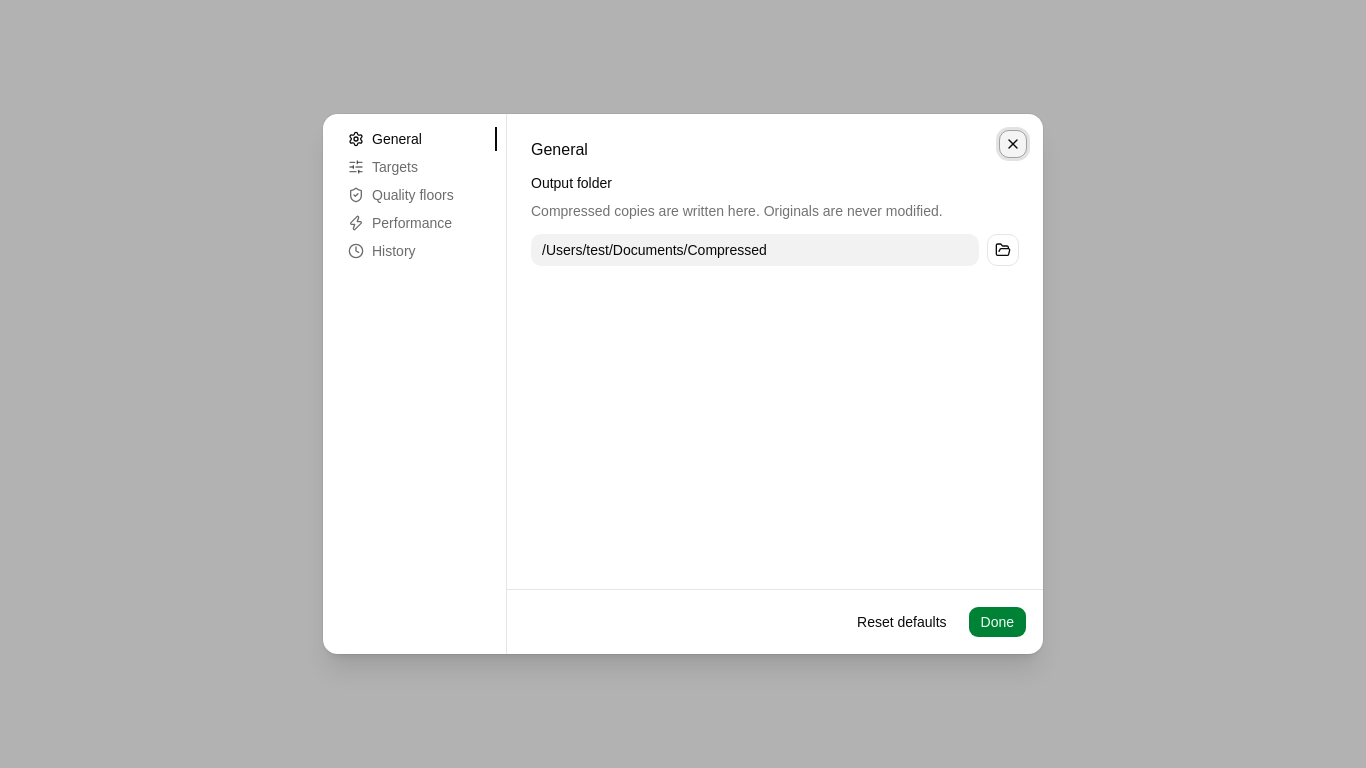
Scenario: SettingsDialog › lists the four target categories with controls and no badges
Expected: the tab "General" is shown, [335, 126, 494, 152]
Click the tab "Targets" at (414, 167), box [335, 154, 494, 180]
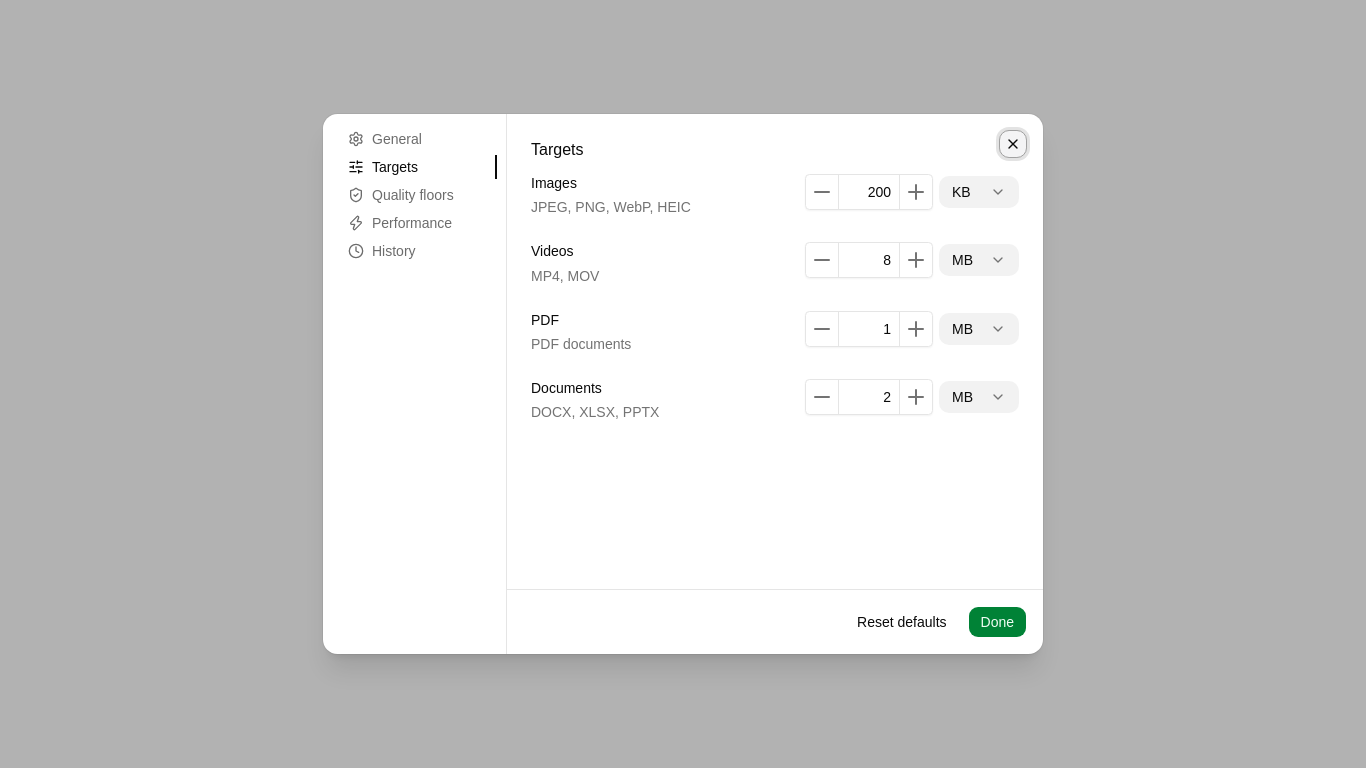
Expected: the text "JPEG, PNG, WebP, HEIC" is shown, [531, 199, 691, 215]
Expected: the text "Images" is shown, [531, 174, 577, 193]
Expected: the text "Videos" is shown, [531, 242, 574, 262]
